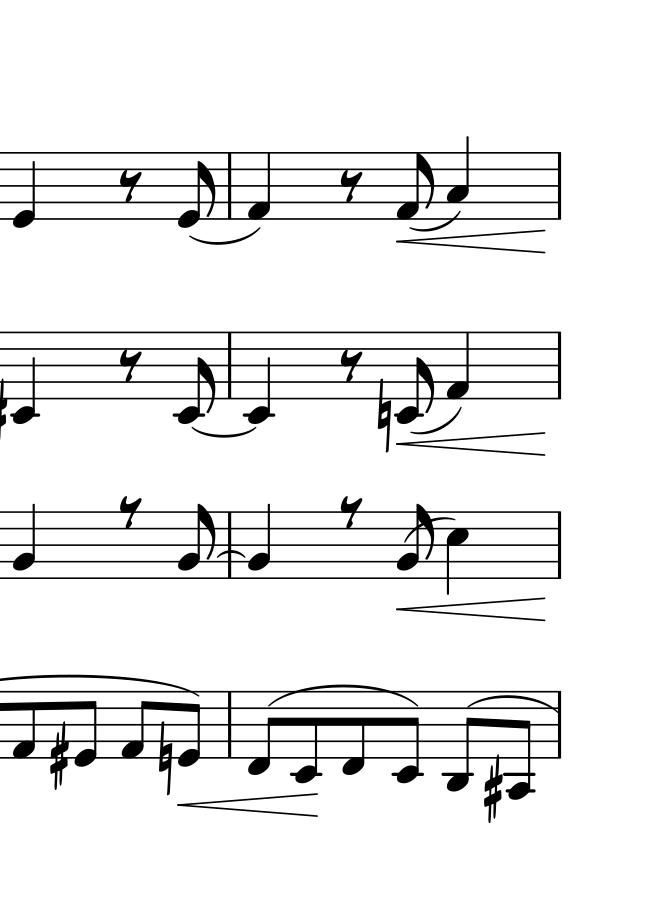4_-2: (11, 330, 38, 425), (244, 332, 271, 424)
4_0: (12, 147, 36, 232)
4_1: (445, 330, 471, 401), (246, 152, 272, 221)
4_2: (246, 504, 273, 580), (12, 503, 38, 580)
4_3: (444, 136, 471, 213)
4_5: (444, 511, 471, 595)
8_-1: (245, 692, 278, 778), (340, 689, 367, 777)
8_-2: (173, 330, 217, 426), (396, 331, 435, 424), (391, 690, 423, 785), (290, 691, 320, 784)
8_-3: (442, 690, 477, 793)
8_-4: (506, 689, 533, 804)
8_0: (178, 152, 216, 229), (73, 691, 99, 769), (178, 690, 203, 769)
8_1: (395, 151, 436, 222), (119, 691, 150, 762), (11, 690, 37, 761)
8_2: (177, 503, 215, 580), (398, 504, 433, 578)
Crescendo_hairpin: (396, 594, 547, 624), (180, 790, 319, 819), (397, 430, 549, 455)
Natural: (375, 380, 392, 449), (157, 725, 173, 791)
Rests8: (117, 349, 144, 384), (339, 169, 364, 203), (339, 349, 364, 383), (118, 496, 143, 530), (339, 496, 364, 530), (118, 170, 143, 203)
Sharp: (49, 727, 70, 790), (483, 760, 503, 823)
Single_barline: (551, 691, 567, 760), (552, 153, 568, 220), (551, 512, 567, 577), (223, 333, 238, 398), (552, 333, 567, 398), (222, 691, 236, 758)
Slur: (269, 683, 423, 706), (466, 694, 560, 713), (411, 404, 462, 436), (190, 228, 263, 246), (409, 208, 463, 232), (191, 426, 256, 439), (217, 548, 245, 558)
